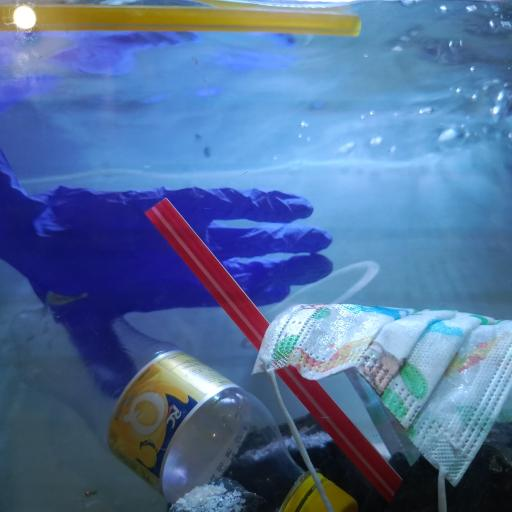bottle_cap: (301, 479, 354, 512)
glove: (3, 150, 331, 387)
mask: (257, 299, 511, 512)
plastic_bottle: (4, 291, 353, 512)
plastic_straw: (148, 199, 407, 497), (4, 2, 364, 37)
